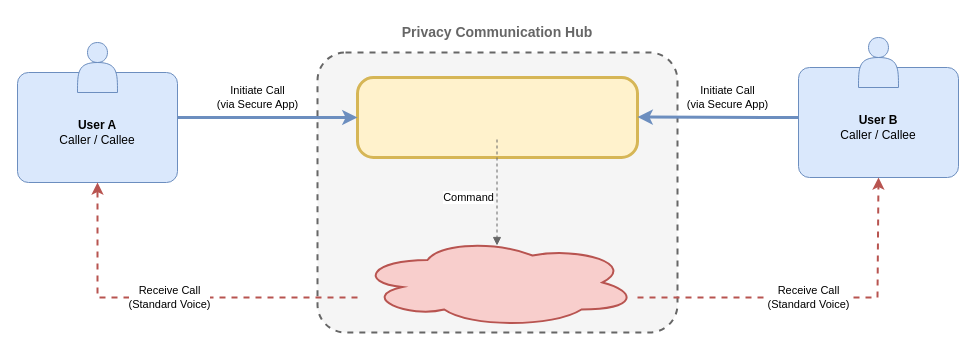
Some shapes in this 976 by 350 pixel diagram are drawn without their labels. Each missing label, with the box of its shape:
Privacy Middleware (Handles Caller Requests & Masking): (356, 76, 638, 158)
Telecom Server / Network (Delivers Standard Voice Call): (356, 236, 638, 328)
